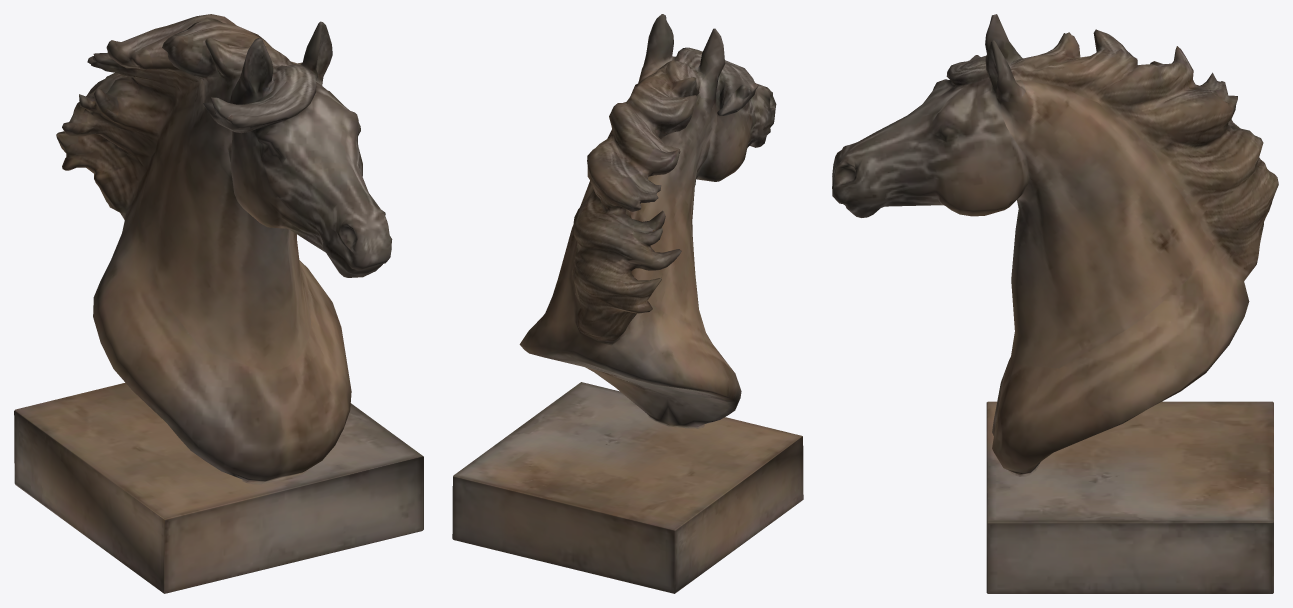
File: horse_head.glb
3 renders of one model, left to right at view 1: azimuth 30°, elevation 25°; view 2: azimuth 150°, elevation 25°; view 3: azimuth 270°, elevation 25°, orthographic. The views are drawn at different scales.
Visible parts, largest first — view 1: horse_head; view 2: horse_head; view 3: horse_head.
Boxes of the visible parts, left/top/right/bottom form: horse_head: left=14, top=14, right=423, bottom=593; horse_head: left=452, top=14, right=803, bottom=593; horse_head: left=832, top=14, right=1278, bottom=593.
Bounding box in the file's own units: 0.2149 × 0.4186 × 0.3339.
1 material, 1 textured.
